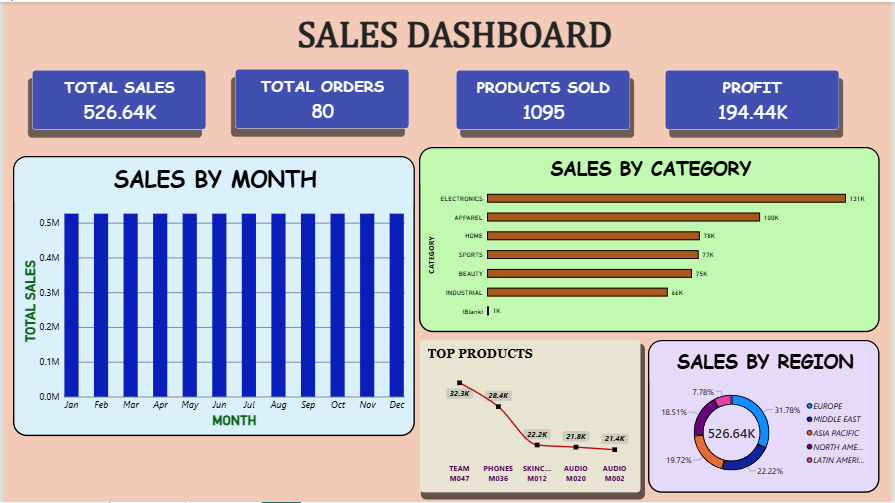

What the dashboard file says about the page in this screenshot:
{"tool":"powerbi","page":{"name":"Page 1","canvas":[1920,1080],"ordinal":0},"visuals":[{"type":"textbox","box":[0,27.5,1910.5,100],"z":0},{"type":"cardVisual","fields":{"Data":["_measures.Total_Sales"]},"box":[42.5,127.5,415.8,168.4],"z":1000},{"type":"cardVisual","fields":{"Data":["Sum(_measures.Total_Orders)"]},"box":[482.5,125,415.8,168.4],"z":2000},{"type":"cardVisual","fields":{"Data":["_measures.PRODUCTS SOLD"]},"box":[960,127.5,415.8,168.4],"z":3000},{"type":"cardVisual","fields":{"Data":["_measures.PROFIT"]},"box":[1410,127.5,415.8,168.4],"z":4000},{"type":"columnChart","title":"SALES BY MONTH","fields":{"Category":["DIM_DATES_BRIDGE.Month"],"Y":["Sum(FACT_ORDERS.LineTotal)"]},"box":[22.5,332.5,867.5,605],"z":5000},{"type":"donutChart","title":"SALES BY REGION","fields":{"Y":["Sum(FACT_ORDERS.LineTotal)"],"Category":["DIM_CUSTOMERS.Region"]},"box":[1392.5,730,500,330],"z":6000},{"type":"barChart","title":"SALES BY CATEGORY","fields":{"Category":["DIM_PRODUCTS.Category"],"Y":["Sum(FACT_ORDERS.LineTotal)"]},"box":[897.5,312.5,995,400],"z":7000},{"type":"lineChart","title":"TOP PRODUCTS","fields":{"Category":["DIM_PRODUCTS.ProductName"],"Y":["Sum(FACT_ORDERS.LineTotal)"]},"box":[900,731,476.2,328.6],"z":8000}]}

Visuals, with their boxes in screenshot pixels (x1, y1, x2, y2), scaled from the page's 1920x1080 canvas onto the 895x503 screenshot:
textbox: Rect(0, 13, 891, 59)
cardVisual - _measures.Total_Sales: Rect(20, 59, 214, 138)
cardVisual - Sum(_measures.Total_Orders): Rect(225, 58, 419, 137)
cardVisual - _measures.PRODUCTS SOLD: Rect(448, 59, 641, 138)
cardVisual - _measures.PROFIT: Rect(657, 59, 851, 138)
"SALES BY MONTH" columnChart: Rect(10, 155, 415, 437)
"SALES BY REGION" donutChart: Rect(649, 340, 882, 494)
"SALES BY CATEGORY" barChart: Rect(418, 146, 882, 332)
"TOP PRODUCTS" lineChart: Rect(420, 340, 642, 493)
